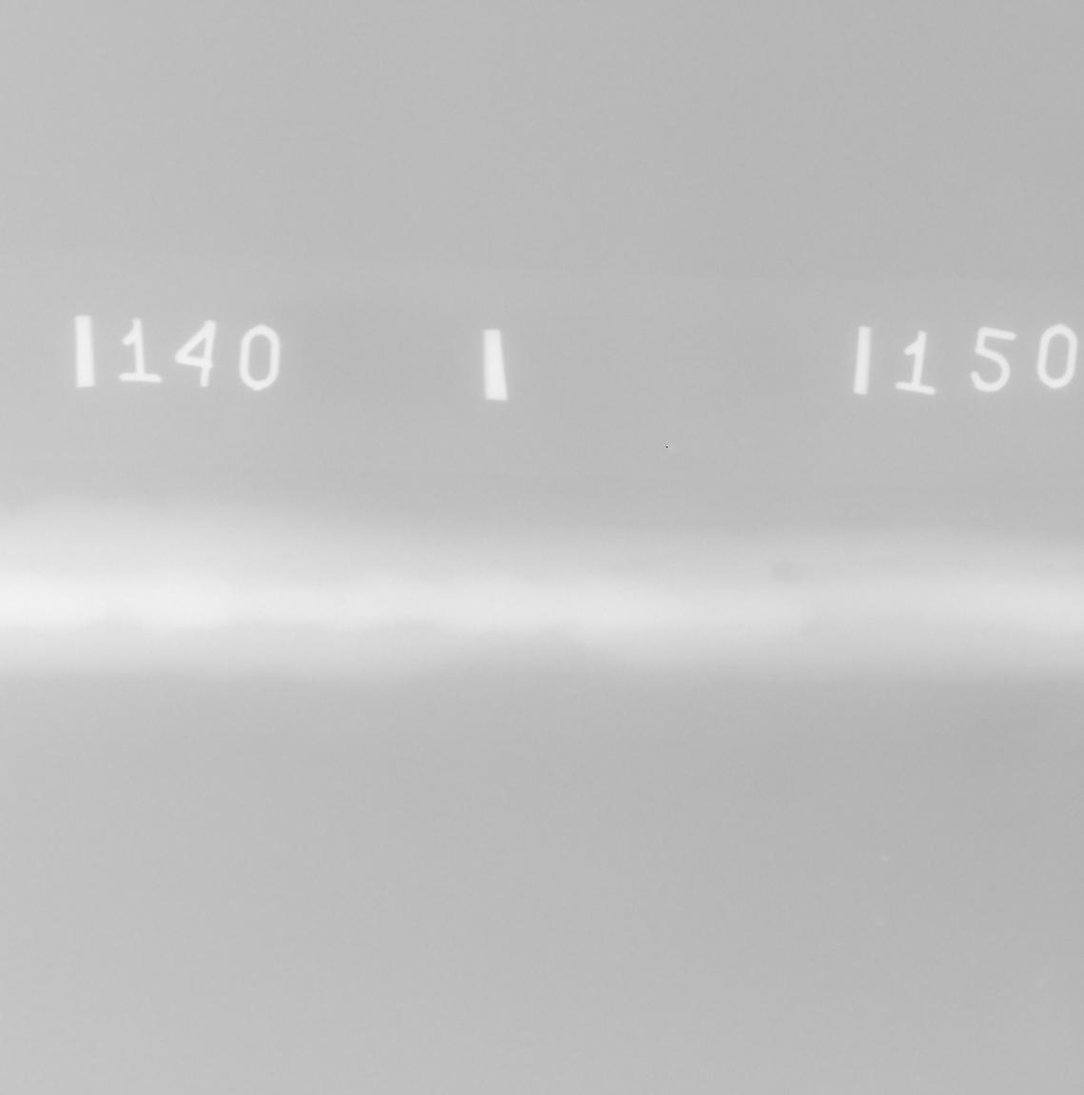Inclusion: (801, 622, 823, 643)
Pore/Porosity: (770, 561, 808, 583), (337, 600, 346, 608), (737, 624, 744, 630), (1046, 564, 1054, 568)
